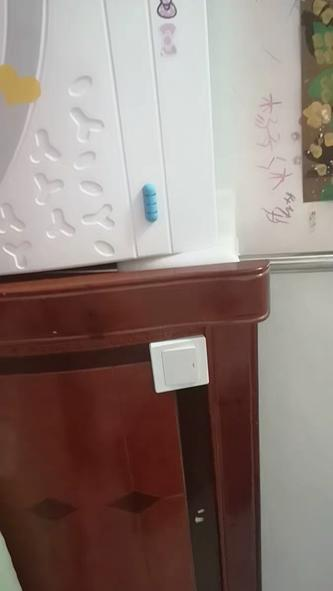switch: (158, 343, 207, 387)
